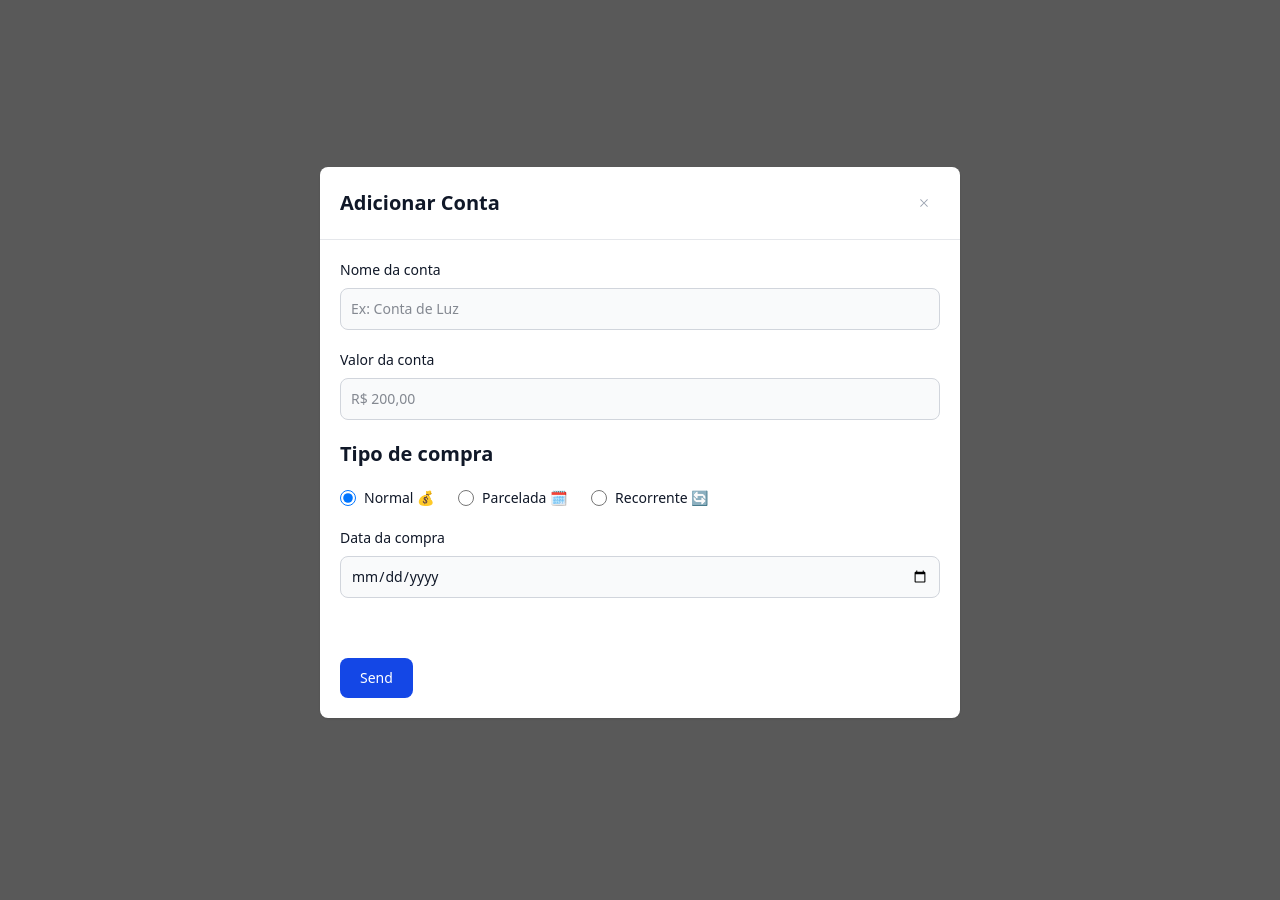
Test: AddBillModal › deve mostrar o campo de parcelas apenas quando "Parcelada" for selecionado
The width and height of the screenshot is (1280, 900).
Expected: the field labelled "Parcelas" is not shown
Click the radio button labelled "Parcelada 🗓️" at (466, 498), box x1=458 y1=490 x2=474 y2=506
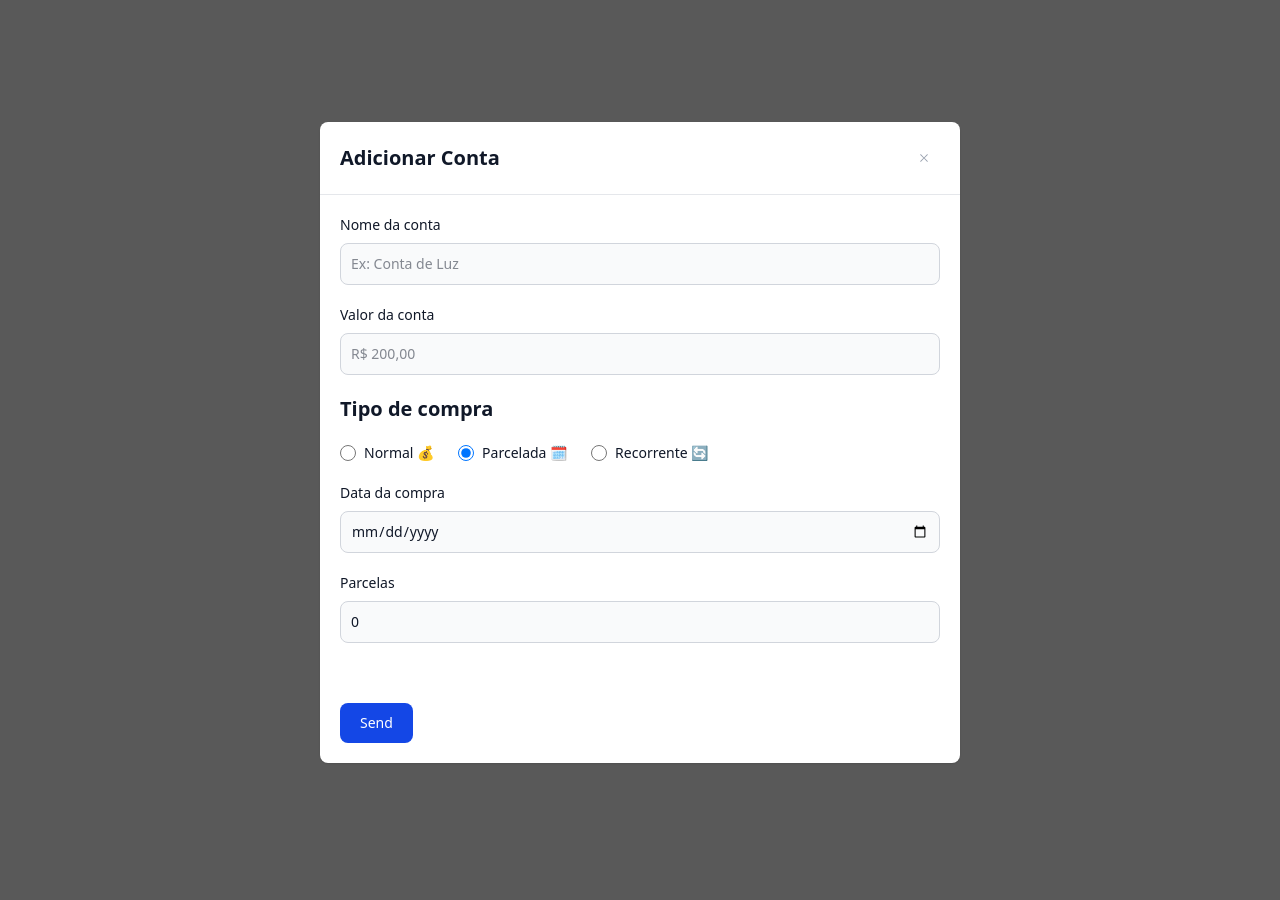
Result: the number field labelled "Parcelas" is shown at x1=340 y1=600 x2=940 y2=642
